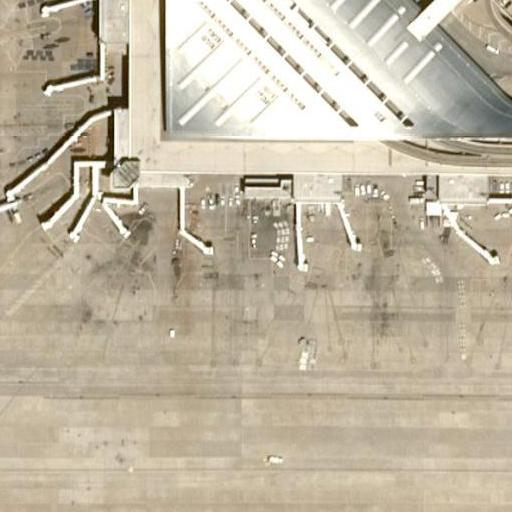Aircraft: (0, 181, 21, 249)
